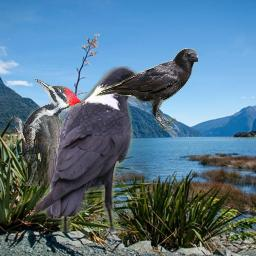Crow: (34, 66, 149, 232), (93, 48, 198, 131)
Woodpecker: (15, 77, 81, 186)
